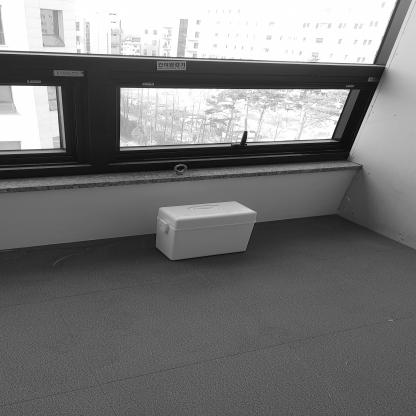DDL: (154, 200, 256, 261)
